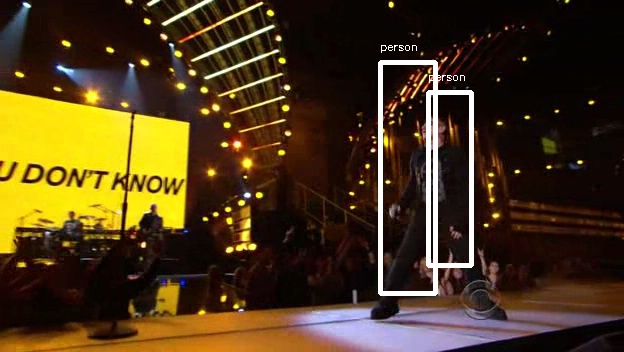person: (402, 116, 469, 226), (399, 116, 466, 226), (405, 116, 472, 226), (402, 113, 469, 223), (402, 119, 469, 229)
target_negative: (281, 3, 368, 273), (52, 43, 190, 173), (508, 240, 612, 351), (299, 211, 350, 337), (482, 178, 567, 244), (505, 80, 619, 90)
